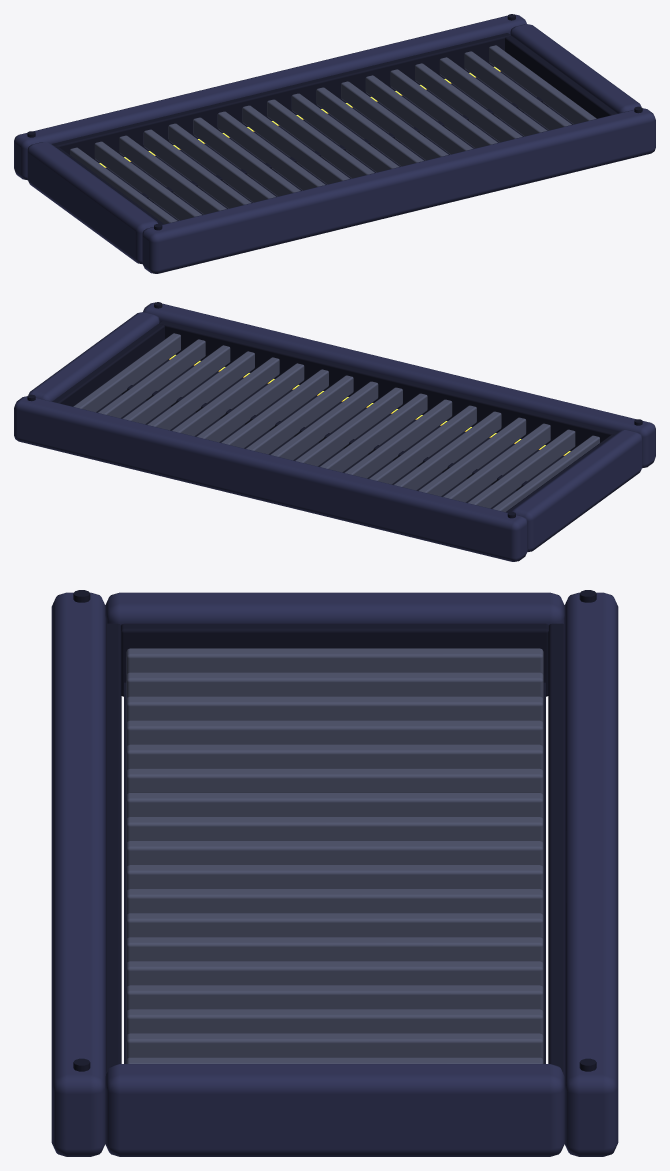
The model's file is roof.vent.w2.d1.glb.
The picture shows the model from 3 angles, top to bottom: view 1: azimuth 30°, elevation 25°; view 2: azimuth 150°, elevation 25°; view 3: azimuth 270°, elevation 25°; orthographic projection. The views are drawn at different scales.
Visible parts, largest first — view 1: roof.vent.w2.d1; view 2: roof.vent.w2.d1; view 3: roof.vent.w2.d1.
Boxes of the visible parts, x1,y1,x2,y2 form: roof.vent.w2.d1: (14,14,655,273); roof.vent.w2.d1: (14,302,655,561); roof.vent.w2.d1: (51,590,618,1156).
Size of the model in its own units: 1.94 by 0.161 by 0.94.
